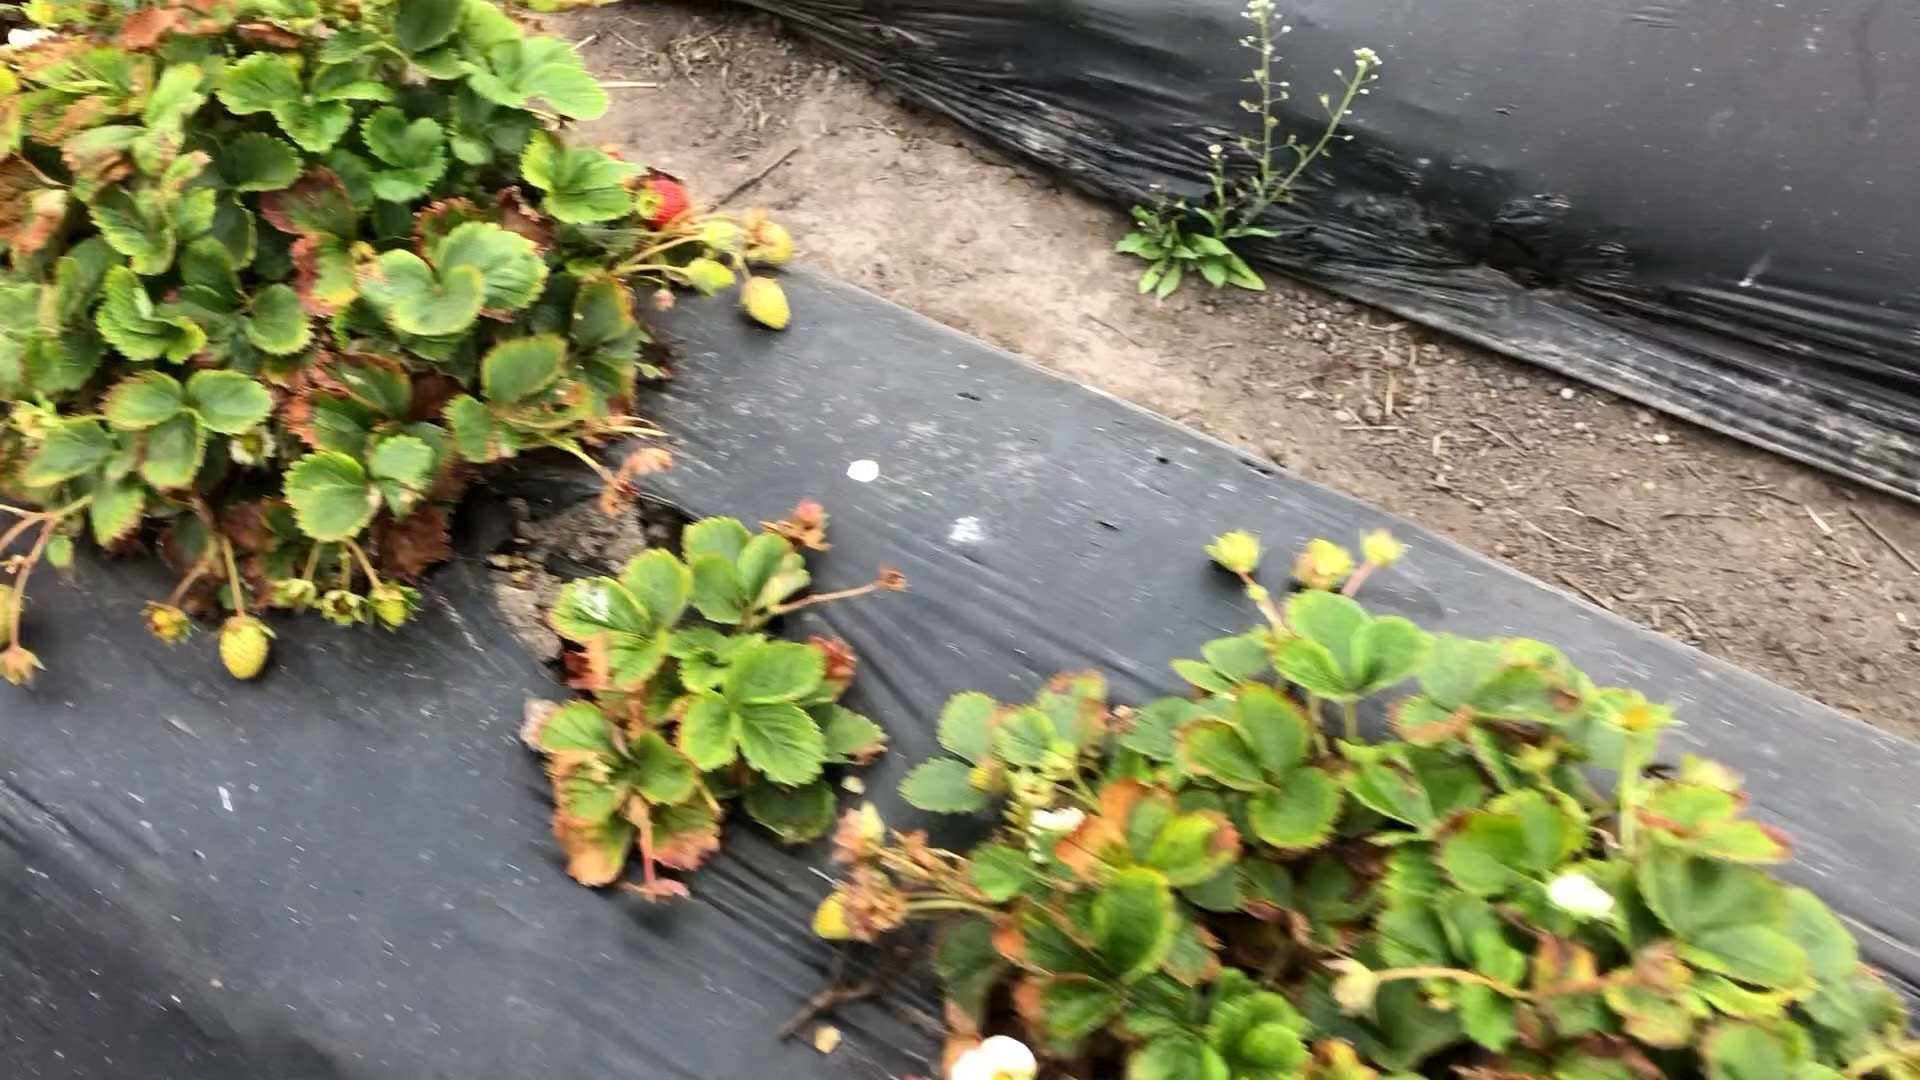ripe_strawberry: (636, 175, 691, 232)
unripe_strawberry: (218, 615, 276, 684), (738, 276, 794, 334), (814, 887, 866, 945), (746, 216, 796, 269), (686, 257, 738, 295)
